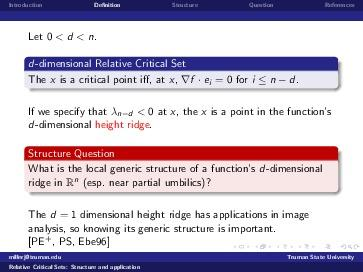paragraph: (19, 49, 343, 250)
subtitle: (27, 54, 193, 70), (24, 142, 119, 162)
